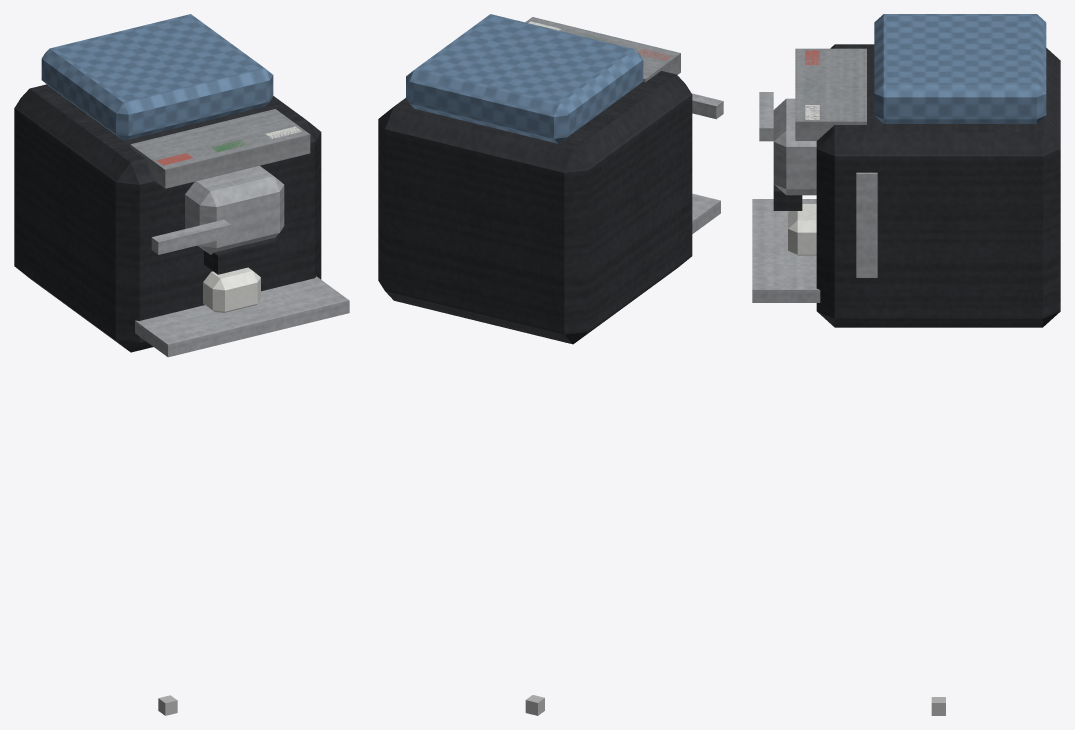
Rendered from rv_furn_coffee.gltf.
The picture shows the model from 3 angles, left to right: view 1: azimuth 30°, elevation 25°; view 2: azimuth 150°, elevation 25°; view 3: azimuth 270°, elevation 25°; orthographic projection. The views are drawn at different scales.
Visible parts, largest first — view 1: RV_Furn_Coffee; view 2: RV_Furn_Coffee; view 3: RV_Furn_Coffee.
Part boxes in pixels (<box>): RV_Furn_Coffee: <box>14,14,349,715</box>; RV_Furn_Coffee: <box>378,14,723,715</box>; RV_Furn_Coffee: <box>752,14,1060,715</box>.
Size of the model in its own units: 0.345 by 1.02 by 0.43.
8 materials, 7 textured.
